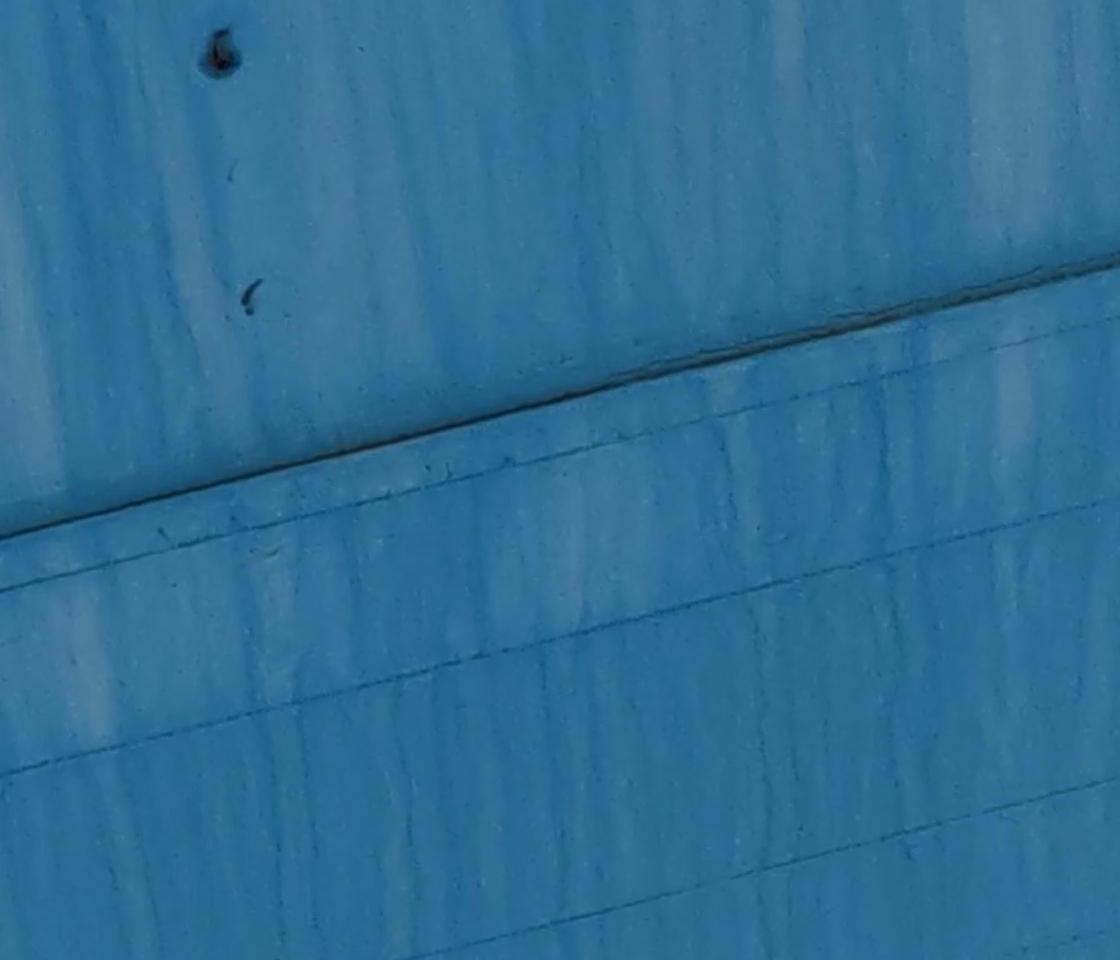rust: (193, 25, 240, 83)
